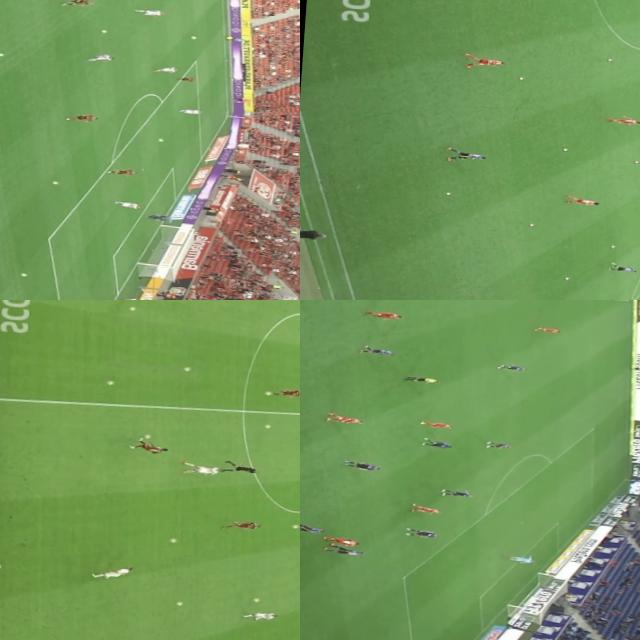ball: (181, 363, 190, 370), (126, 304, 138, 309), (104, 379, 114, 384), (253, 596, 261, 602), (262, 423, 273, 427), (528, 221, 536, 226), (608, 243, 618, 247), (144, 432, 152, 437), (170, 536, 178, 541), (606, 56, 614, 60), (176, 600, 184, 604), (20, 271, 26, 275), (156, 136, 162, 140), (564, 275, 570, 279), (634, 158, 640, 162), (294, 524, 300, 528), (54, 180, 60, 183), (100, 28, 106, 31), (190, 34, 196, 37), (0, 50, 4, 53), (565, 146, 568, 150), (520, 76, 526, 78), (446, 191, 451, 193)
player: (90, 562, 130, 579), (442, 145, 484, 160), (461, 52, 508, 65), (184, 459, 223, 474), (323, 532, 362, 547), (325, 542, 366, 556), (323, 410, 362, 424), (343, 458, 382, 472), (131, 438, 168, 452), (404, 524, 439, 538), (411, 502, 444, 516), (417, 436, 454, 448), (366, 308, 403, 320), (362, 343, 398, 355), (566, 194, 601, 206), (438, 487, 476, 498), (419, 418, 459, 428), (506, 552, 537, 564), (604, 114, 640, 124), (223, 519, 259, 529), (610, 261, 639, 272), (300, 520, 325, 532), (500, 362, 528, 372), (63, 113, 97, 121), (244, 610, 278, 618), (86, 52, 112, 62), (484, 440, 516, 448), (107, 167, 137, 175), (135, 7, 165, 15), (112, 199, 140, 207), (272, 388, 300, 396), (536, 325, 562, 333), (60, 0, 92, 6), (154, 64, 176, 72), (146, 212, 170, 218), (180, 106, 202, 112), (174, 75, 194, 80)
